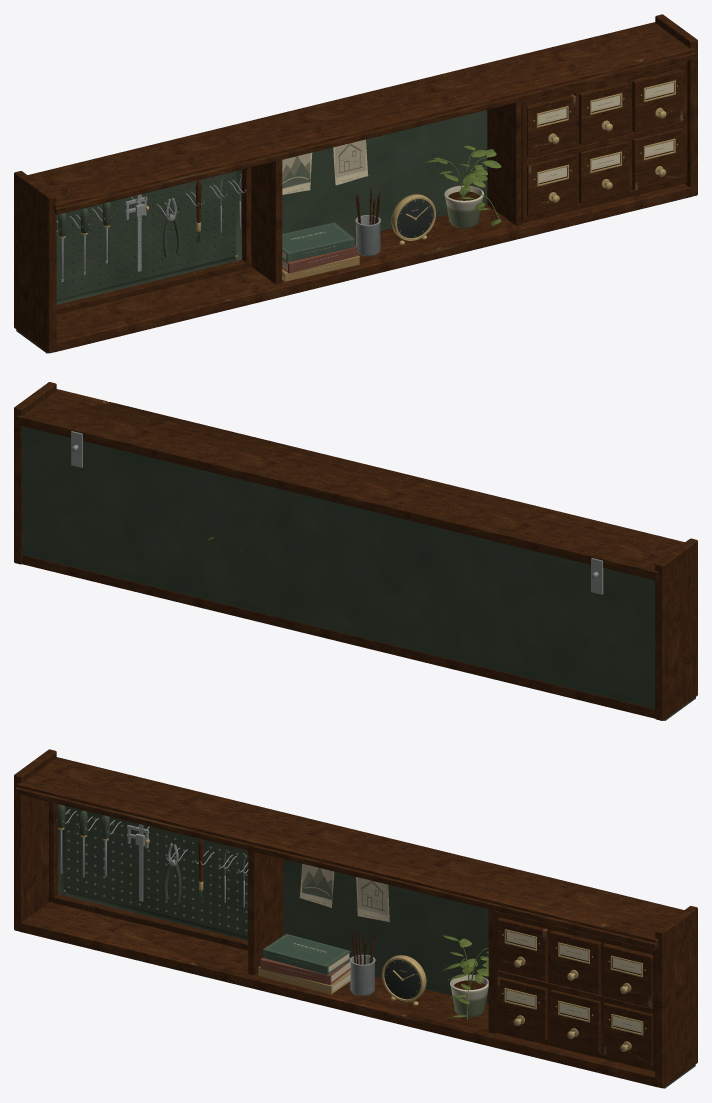
Rendered from workbench-hutch.glb.
The picture shows the model from 3 angles, top to bottom: view 1: azimuth 30°, elevation 25°; view 2: azimuth 150°, elevation 25°; view 3: azimuth 330°, elevation 25°; orthographic projection.
Parts seen in each view (by area): view 1: GEO-frame-Hutch_Walnut, GEO-frame-Hutch_Green, GEO-decor-Hutch_Print, GEO-hardware-Hutch_Brass, GEO-decor-Hutch_Leaves, GEO-tools-Hutch_Steel, GEO-decor-Hutch_Ceramic, GEO-tools-Hutch_Green, GEO-decor-Hutch_Steel, GEO-decor-Hutch_Brass, GEO-decor-Hutch_Walnut; view 2: GEO-frame-Hutch_Green, GEO-frame-Hutch_Walnut, GEO-hardware-Hutch_Steel; view 3: GEO-frame-Hutch_Walnut, GEO-frame-Hutch_Green, GEO-decor-Hutch_Print, GEO-hardware-Hutch_Brass, GEO-tools-Hutch_Steel, GEO-decor-Hutch_Ceramic, GEO-decor-Hutch_Leaves, GEO-tools-Hutch_Green, GEO-decor-Hutch_Steel, GEO-decor-Hutch_Brass, GEO-decor-Hutch_Walnut.
Part boxes in pixels (x1,y1,x2,y2): GEO-frame-Hutch_Walnut: (14,14,697,353); GEO-frame-Hutch_Green: (16,110,487,353); GEO-decor-Hutch_Print: (282,82,673,281); GEO-hardware-Hutch_Brass: (235,80,677,257); GEO-decor-Hutch_Leaves: (424,145,501,226); GEO-tools-Hutch_Steel: (61,174,241,282); GEO-decor-Hutch_Ceramic: (444,185,483,228); GEO-tools-Hutch_Green: (58,202,200,268); GEO-decor-Hutch_Steel: (355,215,380,256); GEO-decor-Hutch_Brass: (391,194,435,244); GEO-decor-Hutch_Walnut: (356,189,480,224); GEO-frame-Hutch_Green: (22,426,695,720); GEO-frame-Hutch_Walnut: (14,382,697,720); GEO-hardware-Hutch_Steel: (71,431,603,594); GEO-frame-Hutch_Walnut: (14,749,697,1088); GEO-frame-Hutch_Green: (58,806,695,1088); GEO-decor-Hutch_Print: (258,864,641,1032); GEO-hardware-Hutch_Brass: (63,880,646,1051); GEO-tools-Hutch_Steel: (60,824,245,907); GEO-decor-Hutch_Ceramic: (450,974,488,1017); GEO-decor-Hutch_Leaves: (442,935,488,1020); GEO-tools-Hutch_Green: (57,804,202,903); GEO-decor-Hutch_Steel: (350,954,375,995); GEO-decor-Hutch_Brass: (382,955,426,1005); GEO-decor-Hutch_Walnut: (352,929,485,989).
Bounding box in the file's own units: 2.05 × 0.474 × 0.2435.
8 materials, 8 textured.
